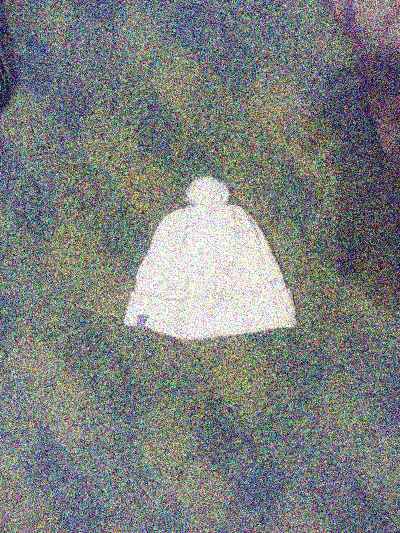Hat: (100, 144, 302, 352)
